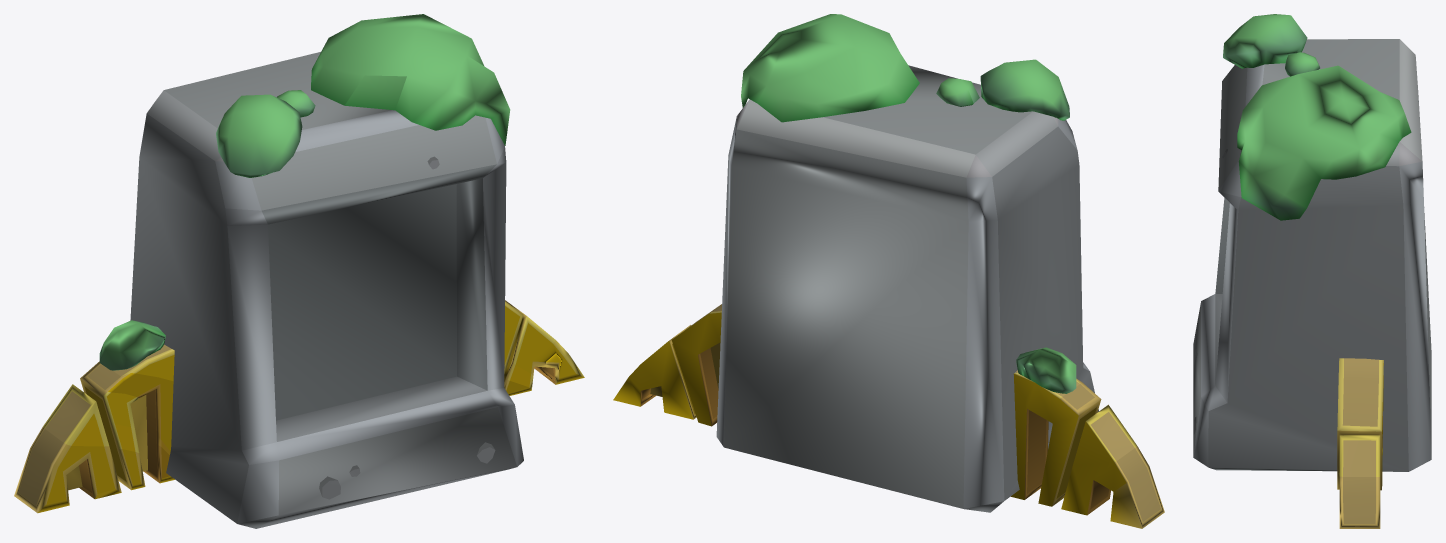
File: tablet.glb
The picture shows the model from 3 angles, left to right: view 1: azimuth 30°, elevation 25°; view 2: azimuth 150°, elevation 25°; view 3: azimuth 270°, elevation 25°; orthographic projection. The views are drawn at different scales.
Parts seen in each view (by area): view 1: tablet; view 2: tablet; view 3: tablet.
Part boxes in pixels (x1,y1,x2,y2): tablet: (14,14,584,528); tablet: (613,14,1164,528); tablet: (1193,14,1431,528).
Size of the model in its own units: 2.34 by 1.71 by 0.9814.
